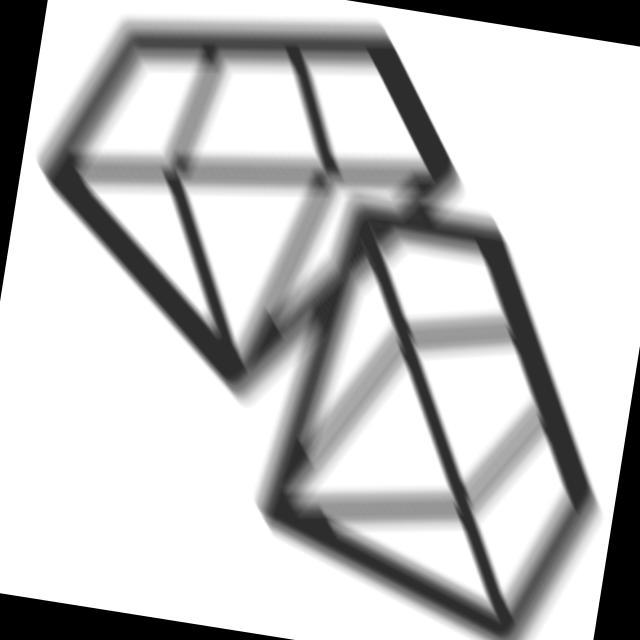diamond: (1, 1, 496, 450), (216, 160, 640, 640)
